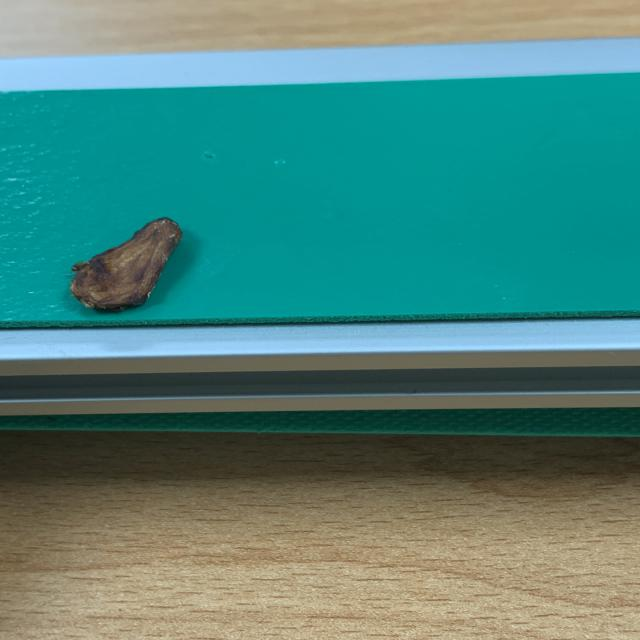Flat_cocoabeans: (3, 182, 292, 348)
